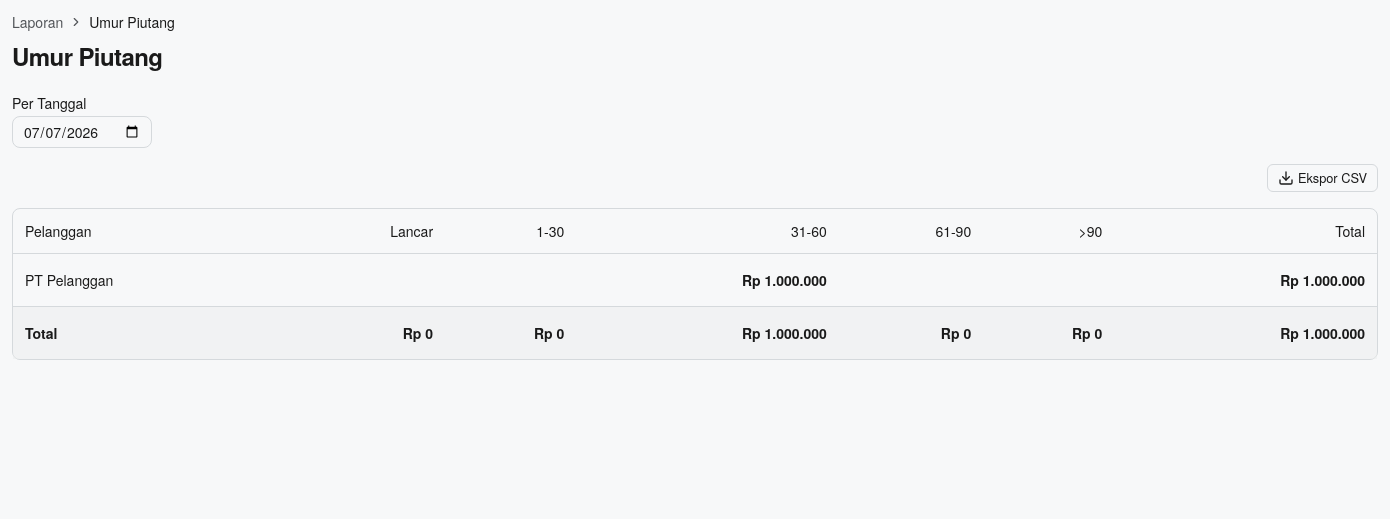
Test: AR: renders Umur Piutang + a partner row; asOf drives the fetch; clicking a partner reveals its documents
Expected: the heading "Umur Piutang" is shown, [12,40,162,72]
Expected: the column heading "Pelanggan" is shown, [13,209,284,253]
Click the text "PT Pelanggan" at (69,280), box [13,253,284,306]
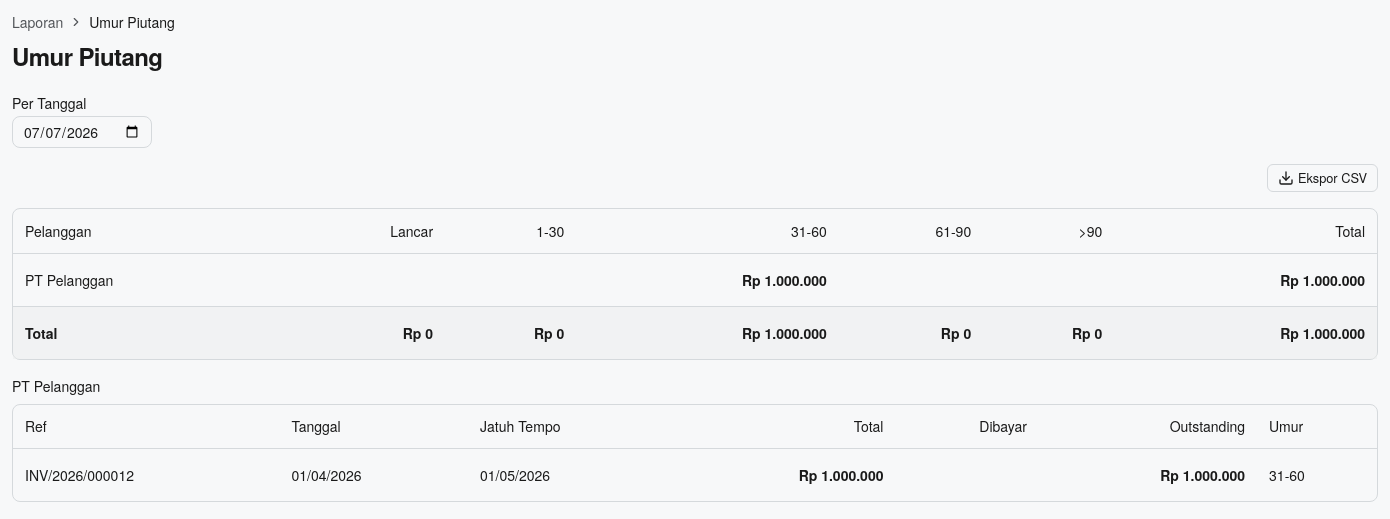
Now the text "INV/2026/000012" is shown, box [13,448,280,501]
